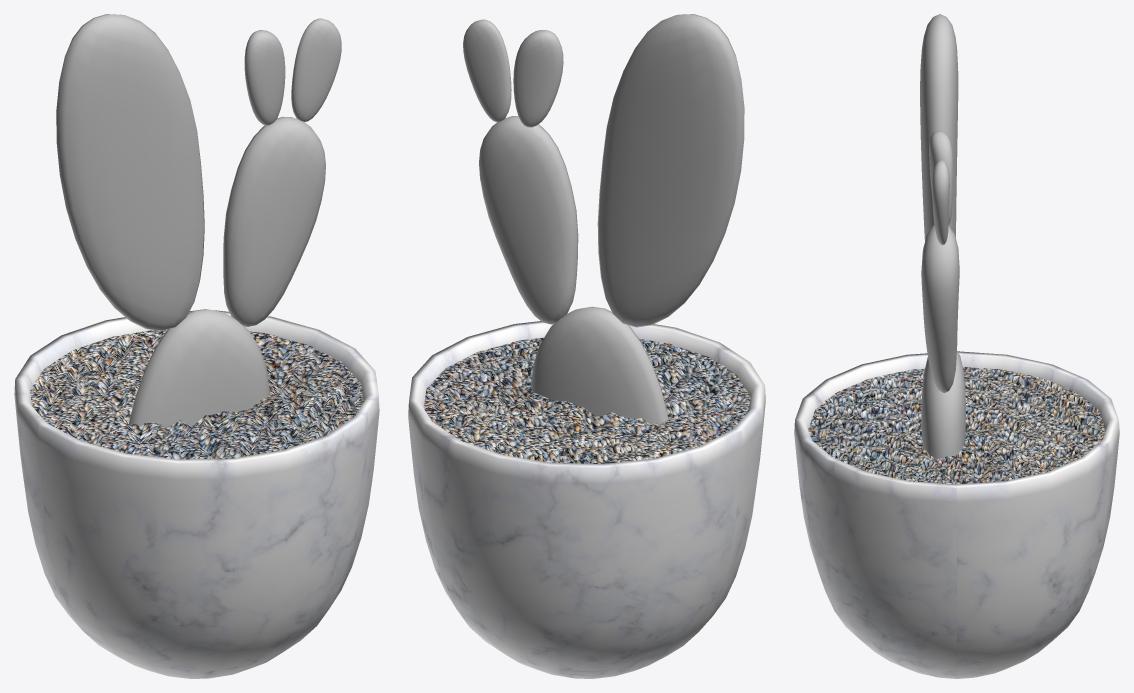
File: Cactus_FBX.fbx
3 renders of one model, left to right at view 1: azimuth 30°, elevation 25°; view 2: azimuth 150°, elevation 25°; view 3: azimuth 270°, elevation 25°, orthographic. The views are drawn at different scales.
Visible parts, largest first — view 1: Maceta, Nopal, Piedras, Nopal2, Nopal1, Nopal4, Nopal3; view 2: Maceta, Nopal, Piedras, Nopal2, Nopal1, Nopal3, Nopal4; view 3: Maceta, Piedras, Nopal, Nopal2, Nopal1, Nopal4, Nopal3.
Boxes of the visible parts, box(x1,y1,x2,y2) form: Maceta: box(14, 310, 379, 678); Nopal: box(56, 14, 204, 331); Piedras: box(30, 329, 363, 459); Nopal2: box(223, 116, 325, 326); Nopal1: box(128, 309, 269, 427); Nopal4: box(291, 18, 341, 121); Nopal3: box(244, 30, 285, 125); Maceta: box(408, 321, 765, 678); Nopal: box(597, 14, 744, 327); Piedras: box(424, 337, 750, 463); Nopal2: box(479, 116, 578, 324); Nopal1: box(530, 306, 668, 424); Nopal3: box(513, 30, 563, 127); Nopal4: box(463, 19, 511, 122); Maceta: box(794, 351, 1119, 678); Piedras: box(808, 367, 1105, 484); Nopal: box(920, 14, 958, 240); Nopal2: box(921, 225, 959, 393); Nopal1: box(921, 351, 965, 458); Nopal4: box(932, 160, 949, 245); Nopal3: box(929, 131, 953, 224).
Size of the model in its own units: 9.66 by 19.8 by 9.64.
